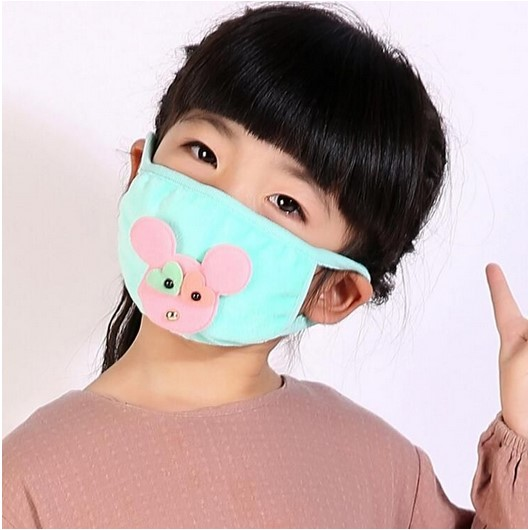face_with_mask: (112, 6, 451, 354)
